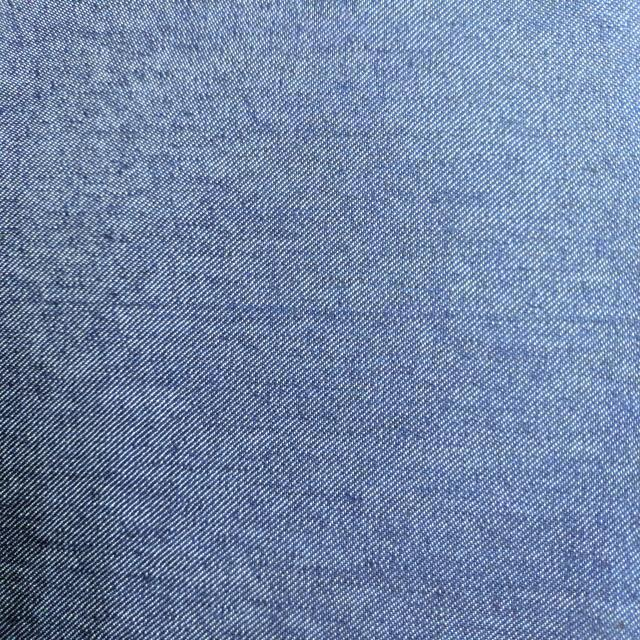Line: (57, 293, 630, 333)
